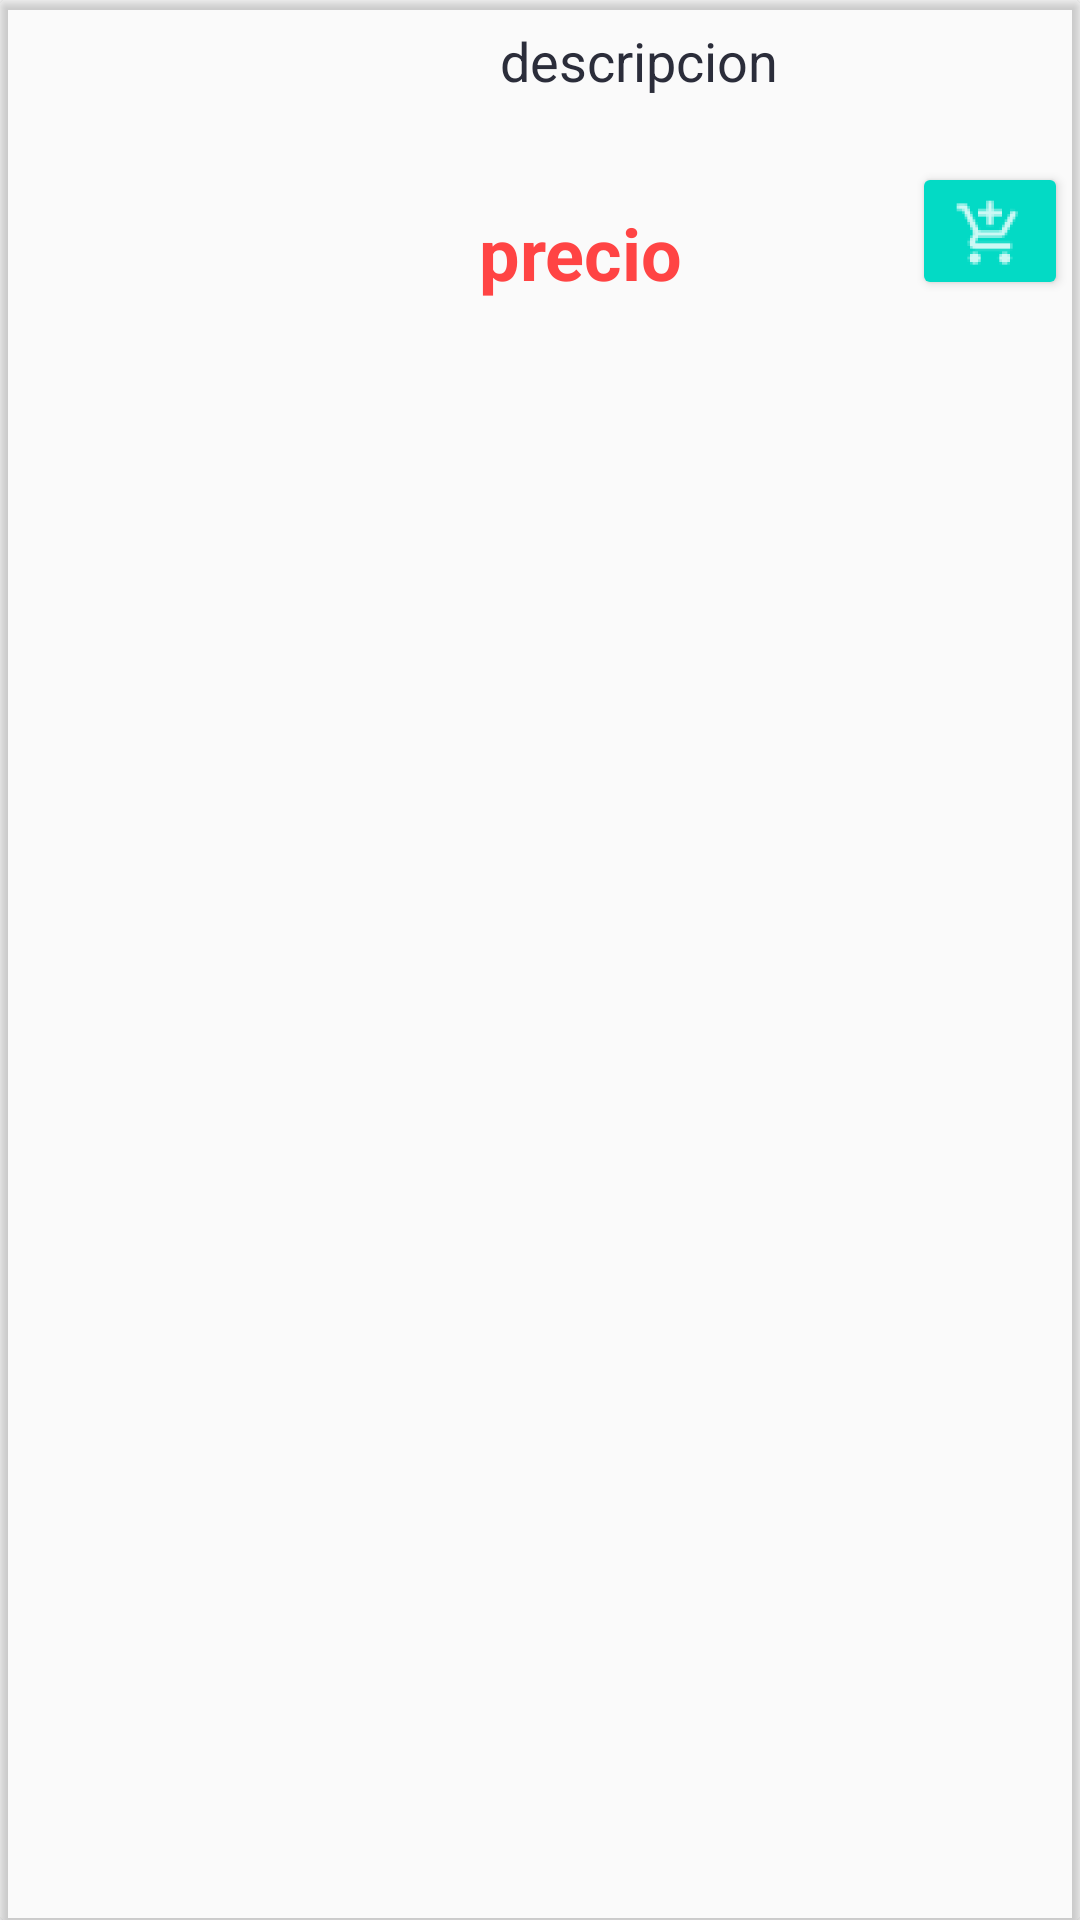

Screen size 1080x1920. Icon name, then its center in pixels as point (x, y):
add: point (990, 231)
